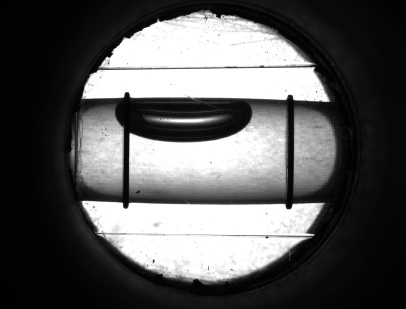line: (280, 113, 300, 190), (119, 141, 134, 187)
